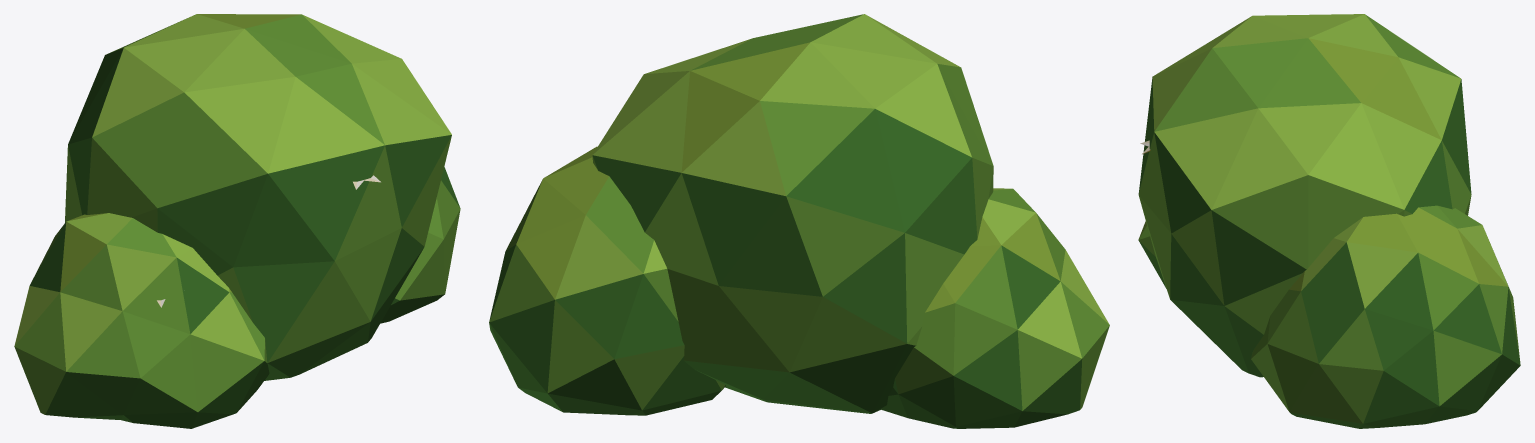
File: bush_1.glb
3 renders of one model, left to right at view 1: azimuth 30°, elevation 25°; view 2: azimuth 150°, elevation 25°; view 3: azimuth 270°, elevation 25°, orthographic. The views are drawn at different scales.
Visible parts, largest first — view 1: bush_1; view 2: bush_1; view 3: bush_1.
Part boxes in pixels (bbox=[...]): bush_1: bbox=[14, 14, 460, 428]; bush_1: bbox=[489, 14, 1109, 428]; bush_1: bbox=[1138, 14, 1520, 428].
Size of the model in its own units: 1.4 by 0.865 by 1.03.
